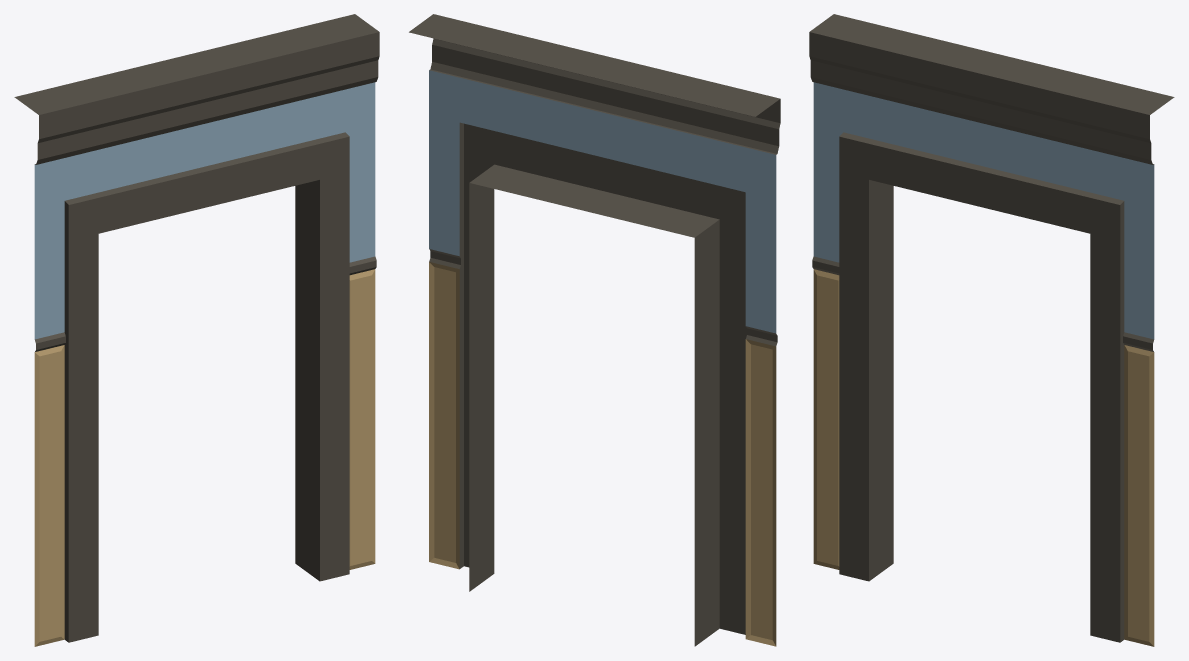
Rendered from KitchenDoor.fbx.
3 renders of one model, left to right at view 1: azimuth 30°, elevation 25°; view 2: azimuth 150°, elevation 25°; view 3: azimuth 330°, elevation 25°, orthographic.
Visible parts, largest first — view 1: Kitchen_Door; view 2: Kitchen_Door; view 3: Kitchen_Door.
Boxes of the visible parts, x1,y1,x2,y2 form: Kitchen_Door: [14, 14, 379, 646]; Kitchen_Door: [409, 14, 780, 646]; Kitchen_Door: [809, 14, 1174, 646].
Size of the model in its own units: 200 by 300 by 25.
